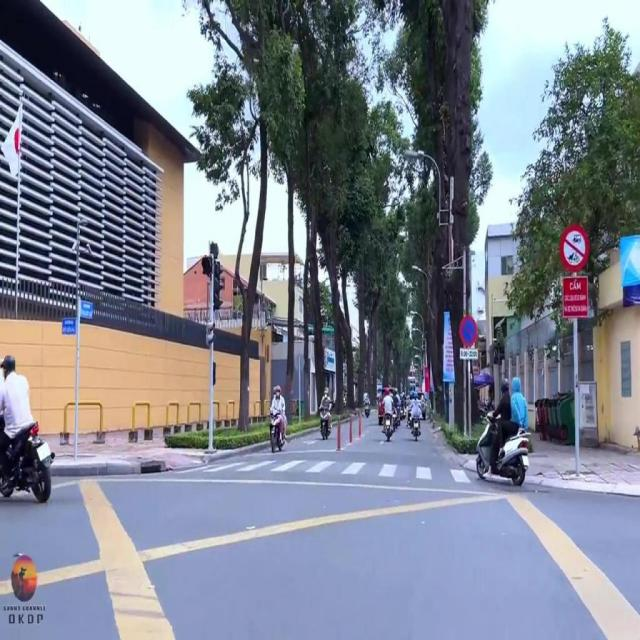cam_cac_loai_xe_3_banh: (559, 223, 590, 273)
cam_do_xe: (459, 314, 477, 348)
khac: (460, 348, 478, 360)
